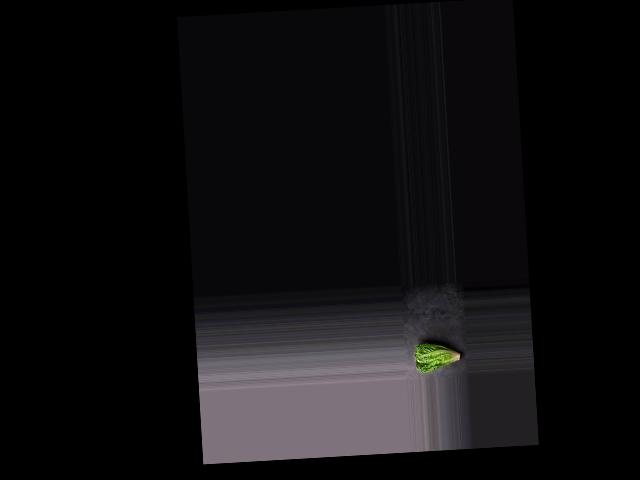lettuce: (413, 339, 464, 374)
